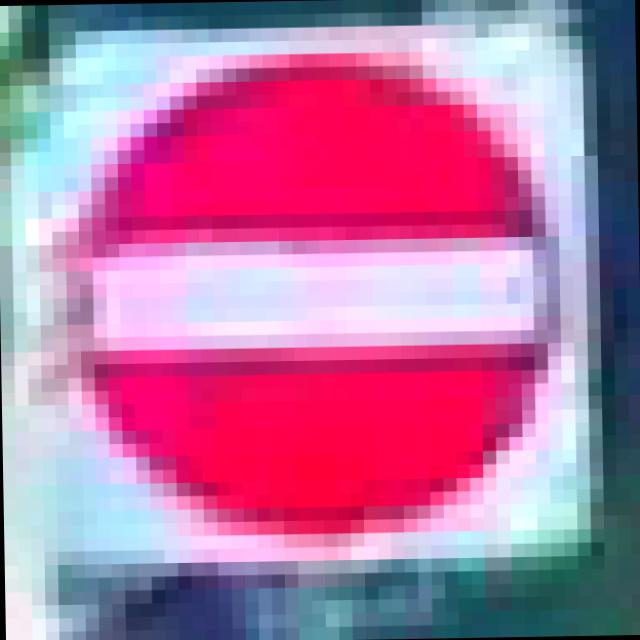noentry_sign: (49, 35, 564, 538)
